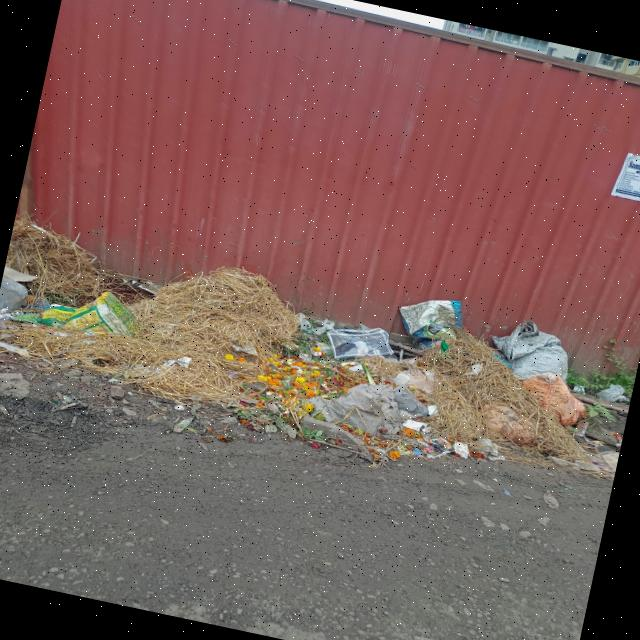garbage: (0, 206, 609, 485)
